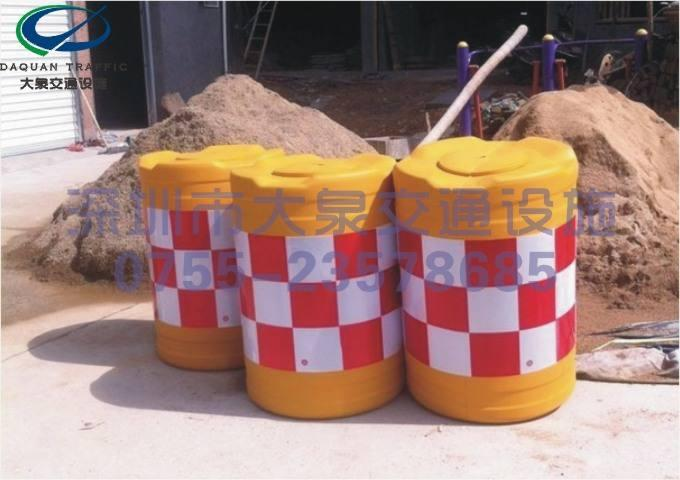sign: (390, 139, 589, 425), (227, 143, 408, 410), (131, 139, 287, 379)
